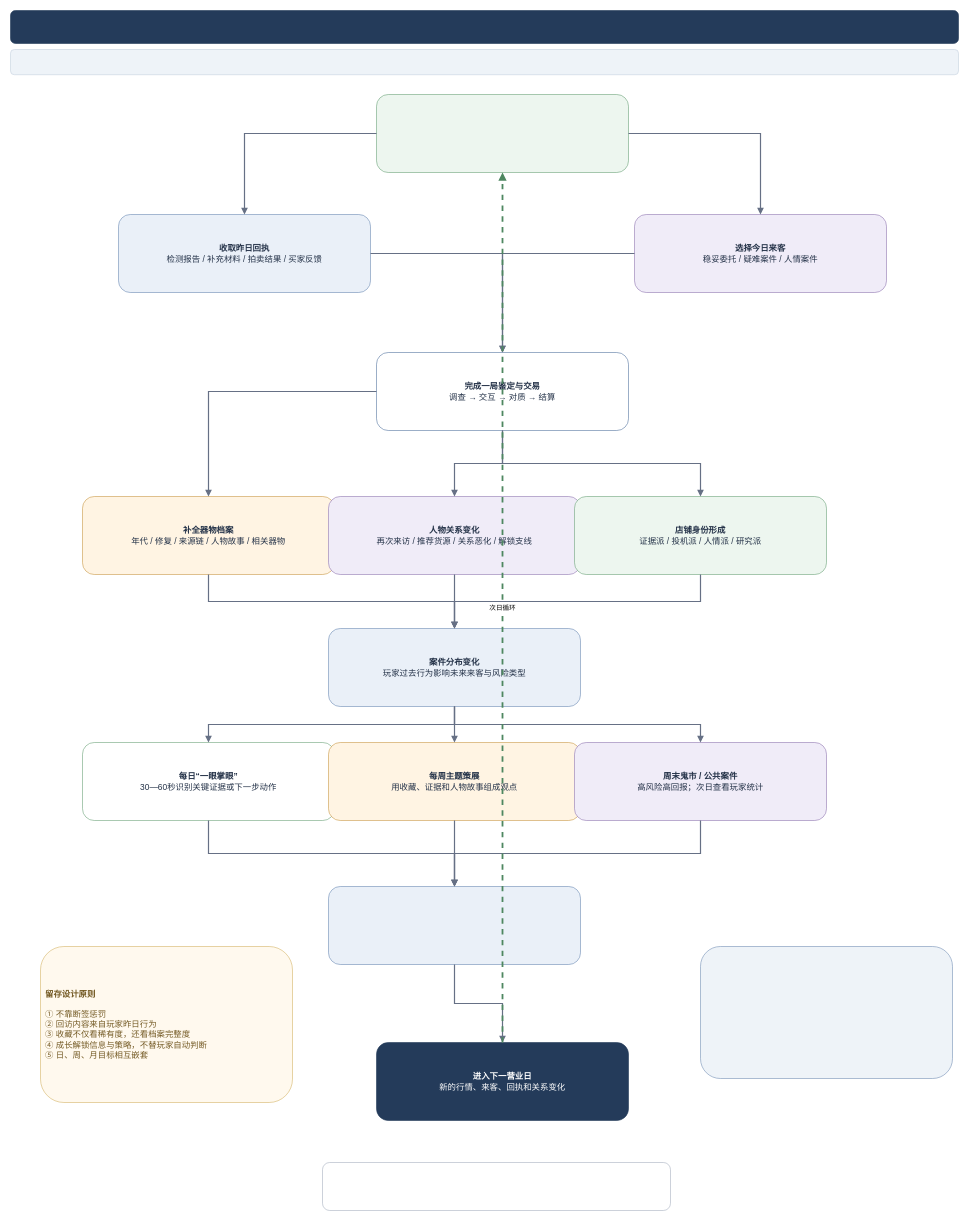
The diagram is 969 pixels wide and 1221 high, and some of its shapes have lost their labels. Each missing label, with the box of its shape:
《掌眼》长期留存与成长循环: (10, 10, 958, 44)
月度 / 赛季目标 重聚失散套系 / 调查大型来源链 / 举办大型展览: (328, 886, 580, 964)
每日回访理由：昨天有结果、今天有新事、长期身份在推进: (10, 49, 958, 75)
每日开店 盖章 / 查看今日行情 / 接收预约: (376, 94, 628, 172)
长期可积累内容 器物收藏 / 来源图谱 / 专家联系人 NPC关系 / 店铺声誉 / 策展主题 检测工具 / 新问题类型 / 新地区案件: (700, 946, 952, 1078)
阅读方式 实线：主流程 虚线：跨日循环 浅色框：玩家可见内容 深色框：周期入口: (322, 1162, 670, 1210)
